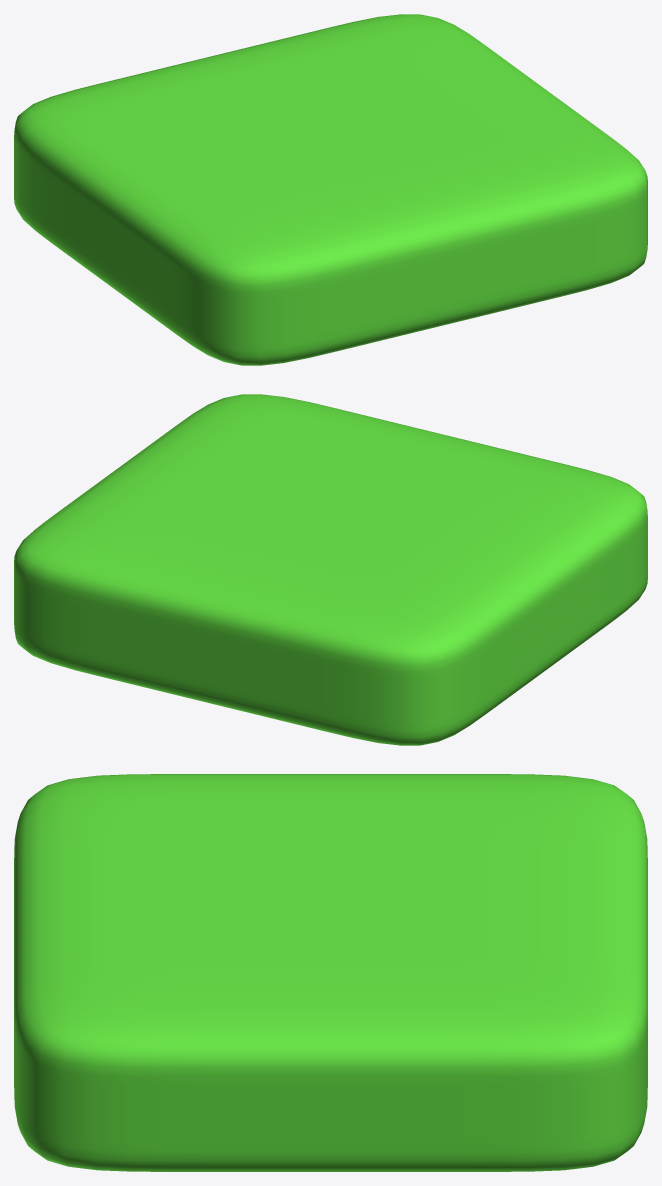
Rendered from GroundGrass.fbx.
The picture shows the model from 3 angles, top to bottom: view 1: azimuth 30°, elevation 25°; view 2: azimuth 150°, elevation 25°; view 3: azimuth 270°, elevation 25°; orthographic projection. The views are drawn at different scales.
Visible parts, largest first — view 1: Cube; view 2: Cube; view 3: Cube.
Part boxes in pixels (left/top/right/bottom): Cube: left=14, top=14, right=647, bottom=365; Cube: left=14, top=394, right=647, bottom=745; Cube: left=14, top=774, right=647, bottom=1171.
Bounding box in the file's own units: 100 × 24.61 × 94.82.
